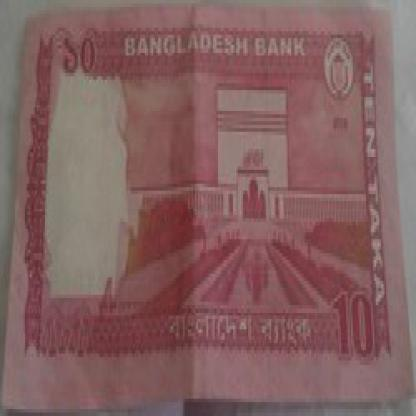Ten Taka: (331, 277, 381, 378), (53, 17, 110, 90)
